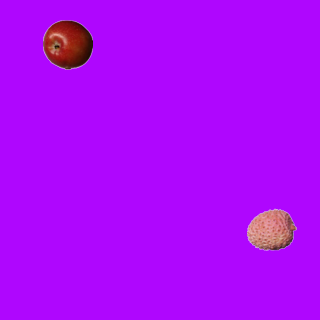Apple Braeburn: (42, 19, 92, 69)
Lychee: (246, 204, 296, 254)
